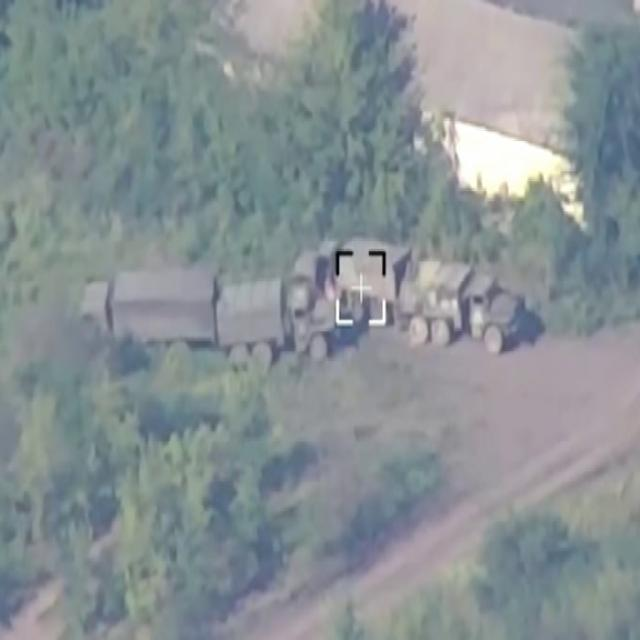TRUCK: (399, 245, 525, 351), (78, 261, 214, 357), (215, 267, 334, 362), (294, 236, 411, 323)
